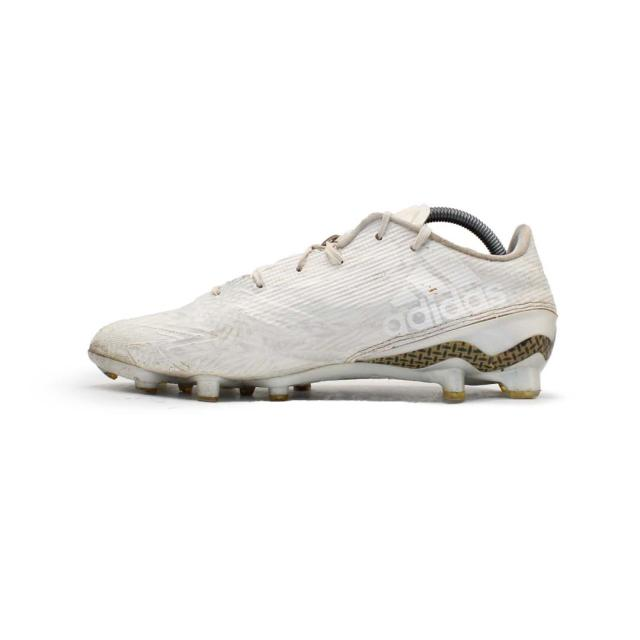heel: (500, 225, 561, 322)
midsole: (91, 313, 556, 400)
uppersole: (89, 216, 510, 373)
